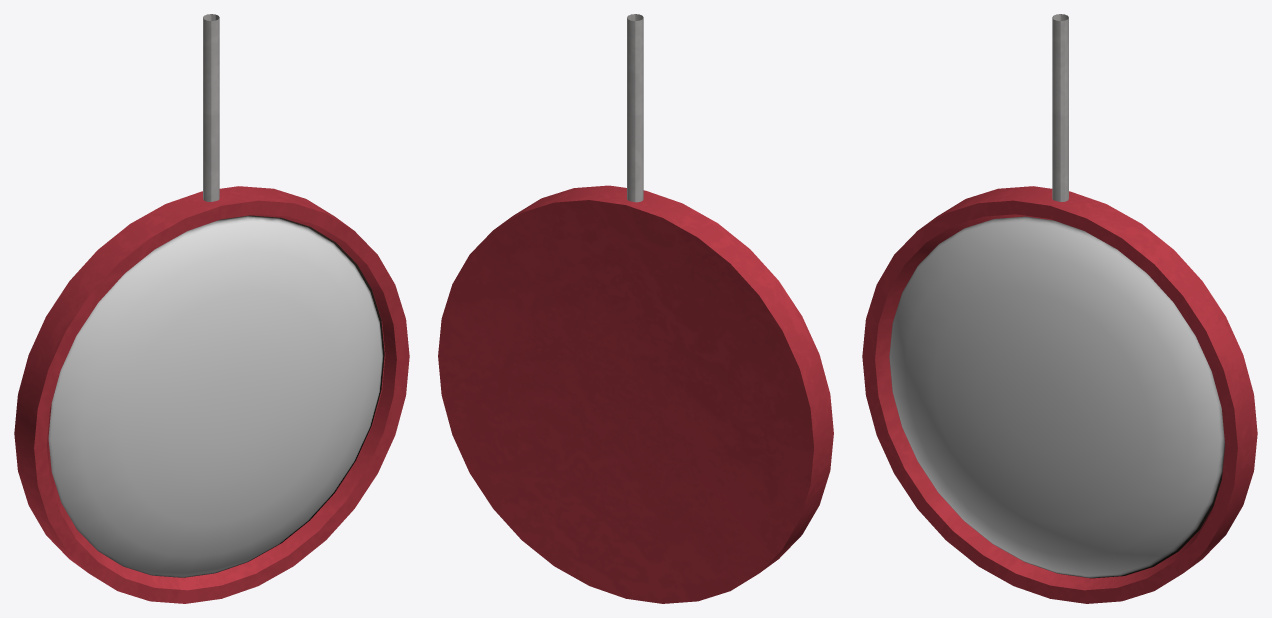
The model's file is Convex_mirror.fbx.
The picture shows the model from 3 angles, left to right: view 1: azimuth 30°, elevation 25°; view 2: azimuth 150°, elevation 25°; view 3: azimuth 330°, elevation 25°; orthographic projection.
Visible parts, largest first — view 1: Convex mirror; view 2: Convex mirror; view 3: Convex mirror.
Boxes of the visible parts, x1,y1,x2,y2 form: Convex mirror: (14, 14, 409, 603); Convex mirror: (438, 14, 833, 603); Convex mirror: (862, 14, 1257, 603).
Size of the model in its own units: 1.03 by 1.51 by 0.1579.
